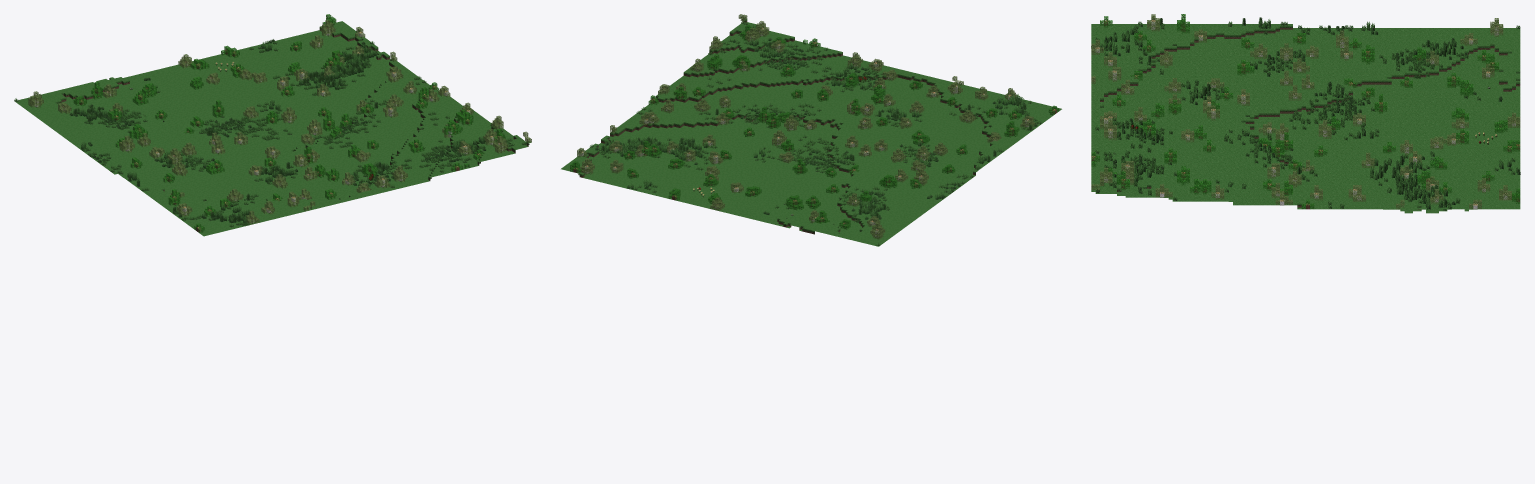
Rendered from chunk4000-1100-lvl-1-transformed.glb.
3 renders of one model, left to right at view 1: azimuth 30°, elevation 25°; view 2: azimuth 150°, elevation 25°; view 3: azimuth 270°, elevation 25°, orthographic. The views are drawn at different scales.
Visible parts, largest first — view 1: Grass_Block, Birch_Leaves, Oak_Leaves, Grass, Double_Tallgrass, Fern, Large_Fern, Oak_Log, Birch_Log; view 2: Grass_Block, Birch_Leaves, Oak_Leaves, Grass, Double_Tallgrass, Fern, Large_Fern, Oak_Log, Birch_Log; view 3: Grass_Block, Birch_Leaves, Oak_Leaves, Grass, Double_Tallgrass, Fern, Birch_Log, Oak_Log, Large_Fern.
Boxes of the visible parts, left/top/right/bottom form: Grass_Block: left=15, top=21, right=531, bottom=236; Birch_Leaves: left=28, top=19, right=531, bottom=224; Oak_Leaves: left=73, top=14, right=505, bottom=233; Grass: left=14, top=41, right=529, bottom=227; Double_Tallgrass: left=76, top=42, right=485, bottom=223; Fern: left=69, top=39, right=485, bottom=220; Large_Fern: left=73, top=44, right=478, bottom=222; Oak_Log: left=79, top=23, right=498, bottom=231; Birch_Log: left=34, top=28, right=503, bottom=222; Grass_Block: left=561, top=18, right=1061, bottom=246; Birch_Leaves: left=577, top=14, right=1035, bottom=239; Oak_Leaves: left=570, top=24, right=1058, bottom=229; Grass: left=590, top=21, right=1042, bottom=245; Double_Tallgrass: left=602, top=38, right=1029, bottom=217; Fern: left=595, top=38, right=1037, bottom=222; Large_Fern: left=601, top=41, right=1032, bottom=217; Oak_Log: left=573, top=32, right=1056, bottom=226; Birch_Log: left=579, top=28, right=1028, bottom=236; Grass_Block: left=1091, top=24, right=1520, bottom=213; Birch_Leaves: left=1091, top=14, right=1520, bottom=209; Oak_Leaves: left=1091, top=14, right=1520, bottom=209; Grass: left=1091, top=21, right=1520, bottom=210; Double_Tallgrass: left=1095, top=19, right=1511, bottom=209; Fern: left=1109, top=25, right=1520, bottom=208; Birch_Log: left=1095, top=20, right=1515, bottom=209; Oak_Log: left=1091, top=20, right=1519, bottom=209; Large_Fern: left=1104, top=17, right=1455, bottom=206.
Bounding box in the file's own units: 100 × 74 × 100.
Materials: 32 (32 with a texture image).
